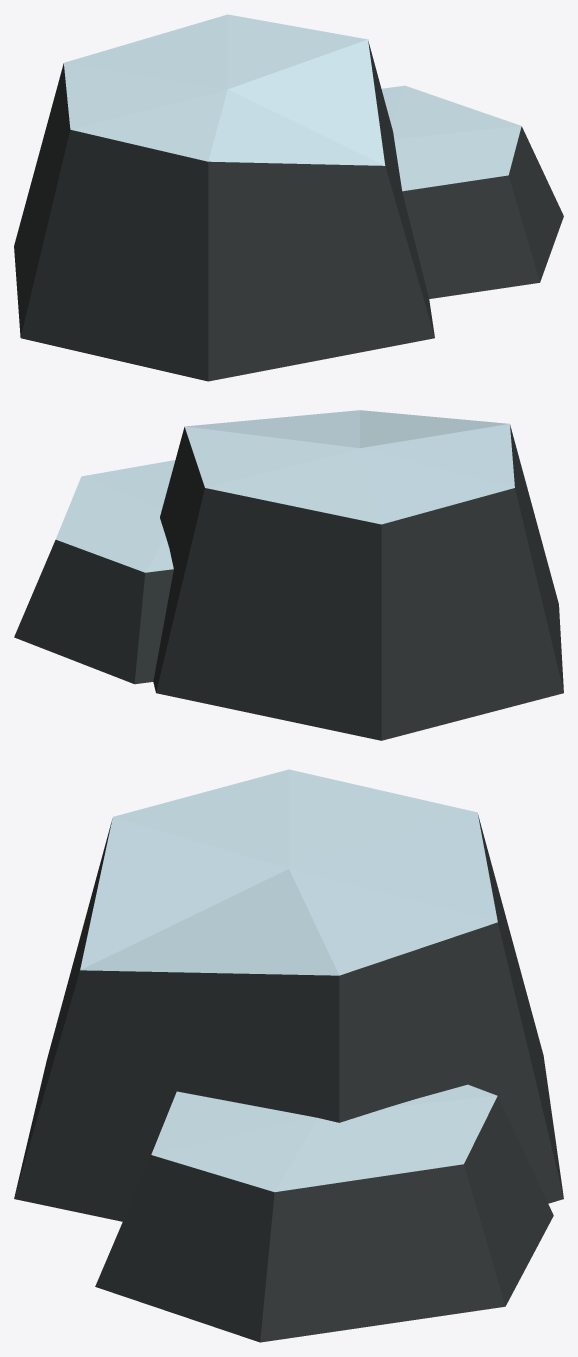
The model's file is SM_Env_Western_Rock_01_Snow.fbx.
3 renders of one model, top to bottom at view 1: azimuth 30°, elevation 25°; view 2: azimuth 150°, elevation 25°; view 3: azimuth 270°, elevation 25°, orthographic. The views are drawn at different scales.
Visible parts, largest first — view 1: SM_Env_Western_Rock_01_Snow; view 2: SM_Env_Western_Rock_01_Snow; view 3: SM_Env_Western_Rock_01_Snow.
Boxes of the visible parts, x1,y1,x2,y2 form: SM_Env_Western_Rock_01_Snow: [14, 14, 563, 381]; SM_Env_Western_Rock_01_Snow: [14, 410, 563, 740]; SM_Env_Western_Rock_01_Snow: [14, 769, 563, 1342].
Size of the model in its own units: 69.5 by 29.69 by 46.85.
1 material, 1 textured.
